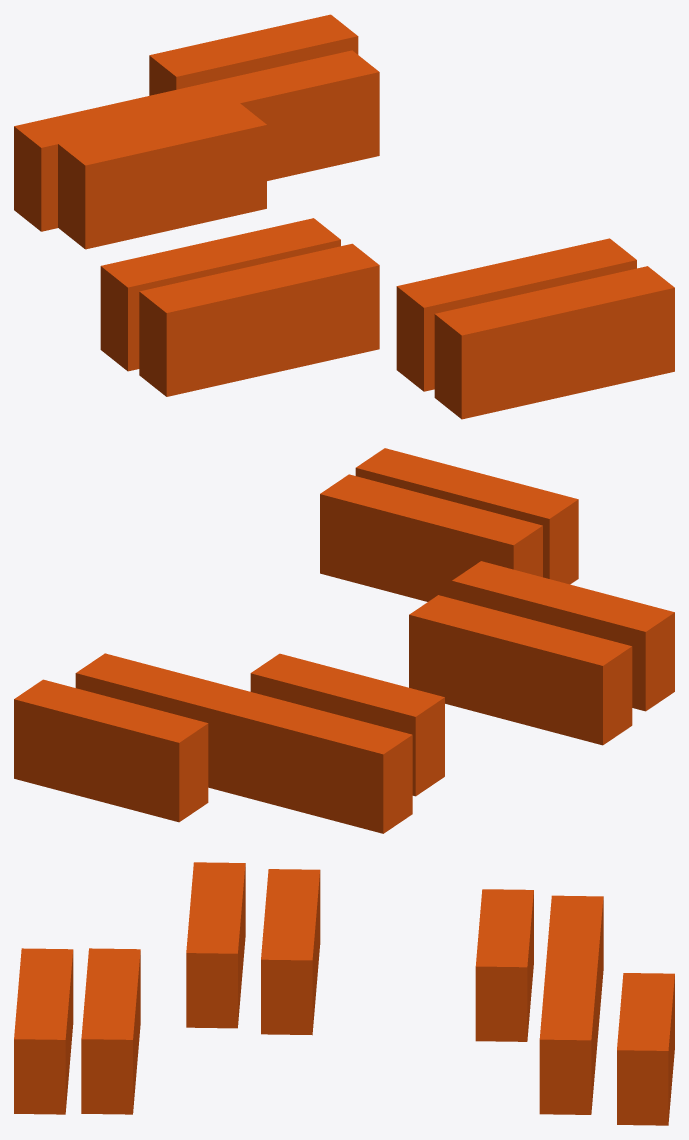
The model's file is edificios.glb.
3 renders of one model, top to bottom at view 1: azimuth 30°, elevation 25°; view 2: azimuth 150°, elevation 25°; view 3: azimuth 270°, elevation 25°, orthographic. The views are drawn at different scales.
Visible parts, largest first — view 1: Cubo.002; view 2: Cubo.002; view 3: Cubo.002.
Boxes of the visible parts, x1,y1,x2,y2 form: Cubo.002: (14,14,674,419); Cubo.002: (14,448,674,833); Cubo.002: (14,862,674,1125).
Size of the model in its own units: 77.15 by 16.95 by 115.
